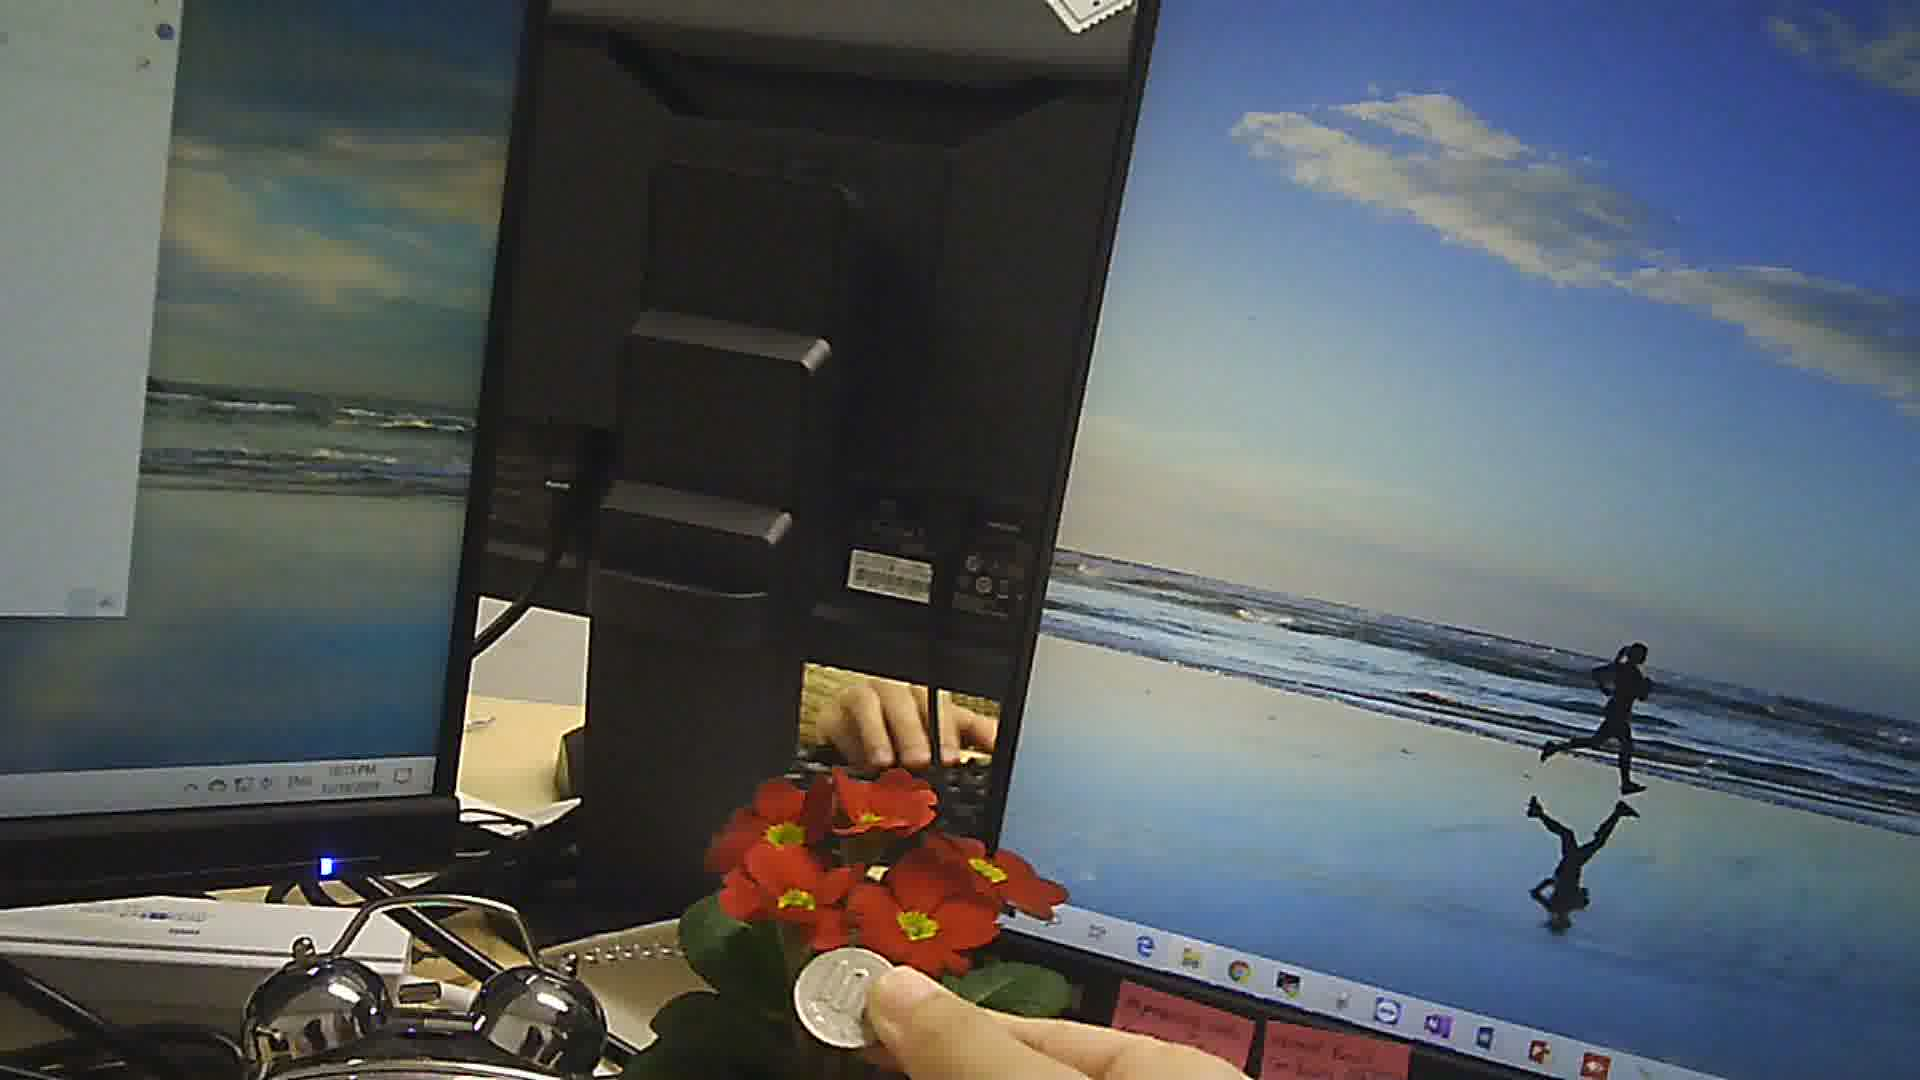100 Yen: (789, 942, 895, 1054)
